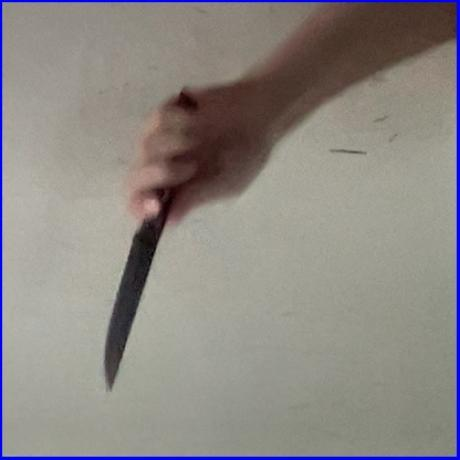1: (127, 5, 455, 226)
weapon: (100, 80, 199, 388)
